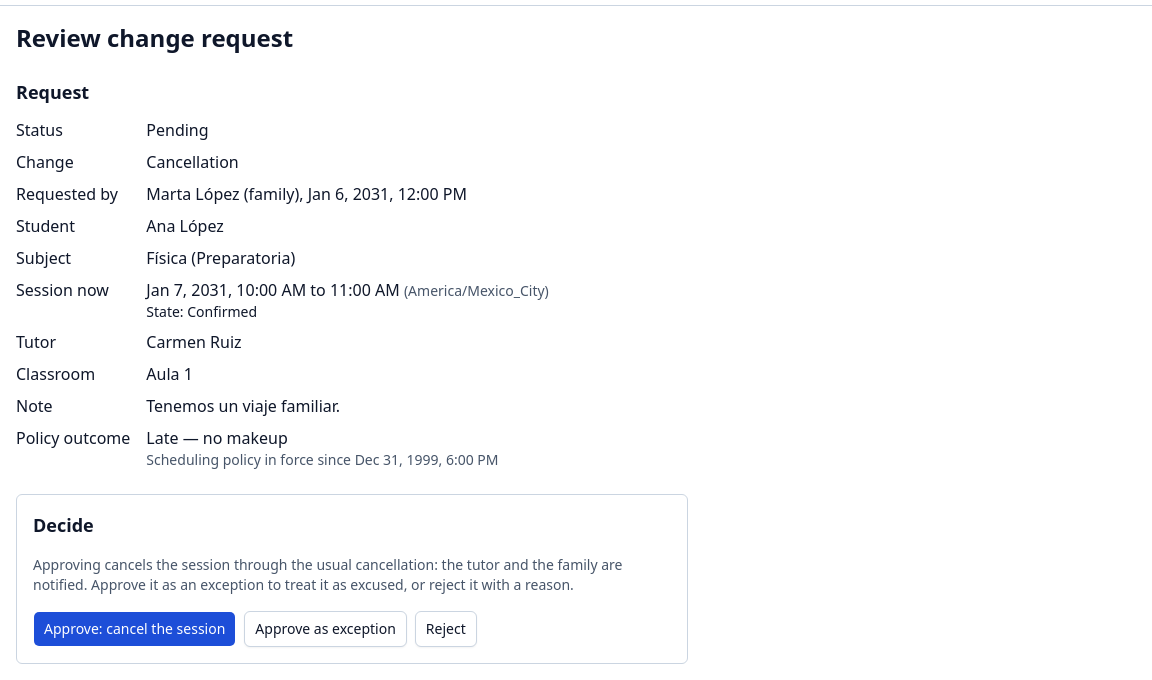
/schedule/change-requests/:id › change_request_not_pending shows a message and reloads the request
(page scrolled)
Click the button "Approve: cancel the session".
click(135, 629)  # box [33,611,236,647]
(page scrolled)
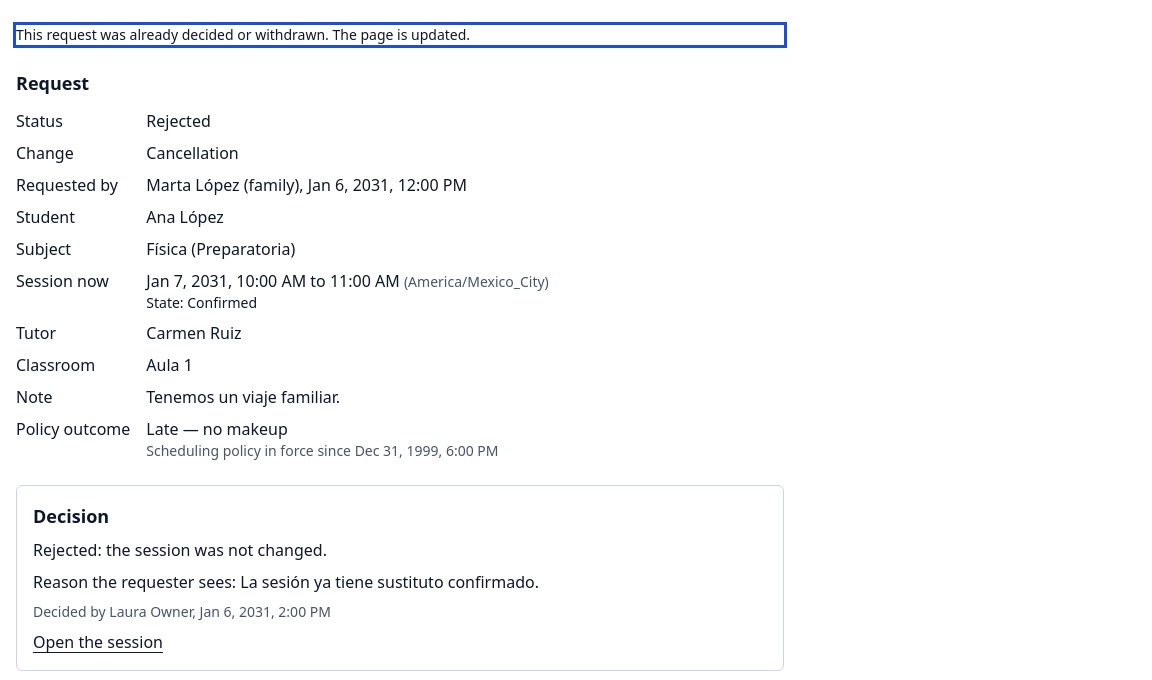
Result: the element that starts with "Review change request" shows "Decision" at [33,504,109,528]
